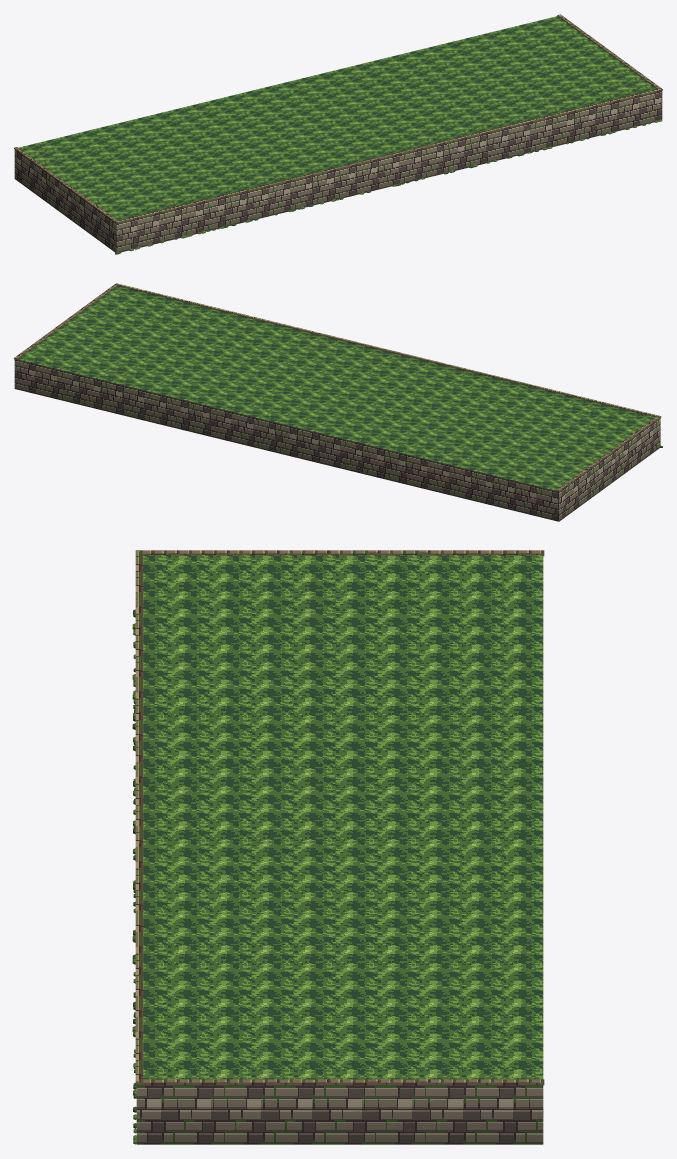
Rendered from scene_crown_wall.glb.
3 renders of one model, top to bottom at view 1: azimuth 30°, elevation 25°; view 2: azimuth 150°, elevation 25°; view 3: azimuth 270°, elevation 25°, orthographic. The views are drawn at different scales.
Parts seen in each view (by area): view 1: scene_crown_wall; view 2: scene_crown_wall; view 3: scene_crown_wall.
Part boxes in pixels (<box>): scene_crown_wall: <box>14,14,662,254</box>; scene_crown_wall: <box>14,283,662,521</box>; scene_crown_wall: <box>132,550,544,1144</box>.
Size of the model in its own units: 60.26 by 3.37 by 19.64.
Materials: 3 (2 with a texture image).
